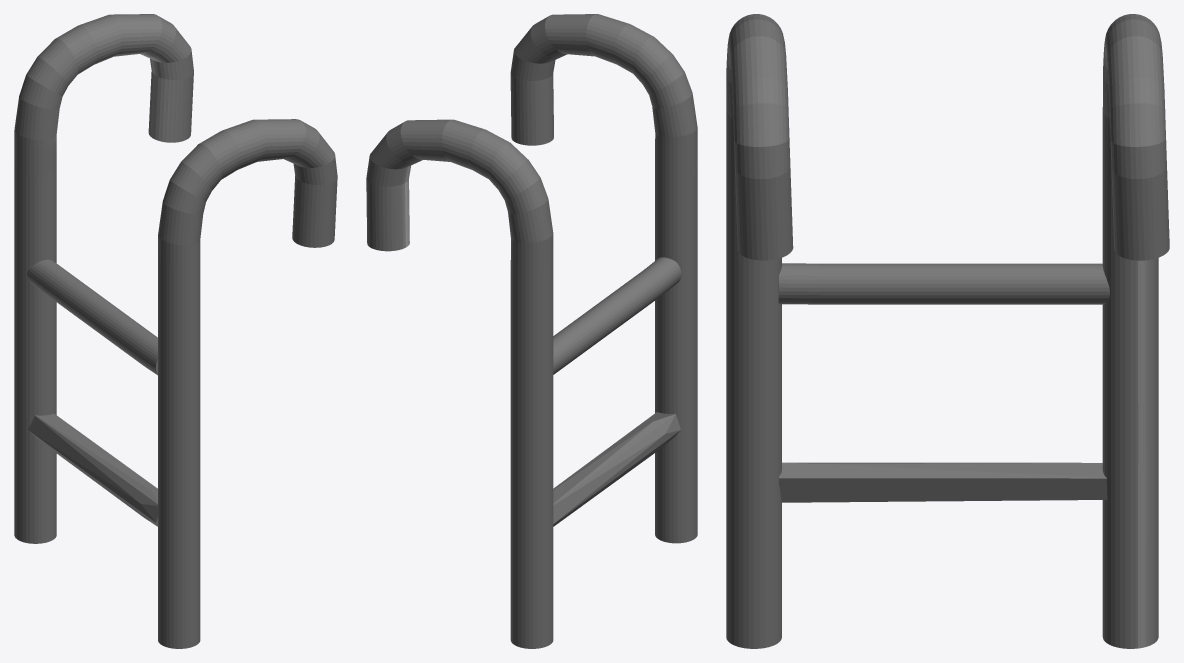
File: lojtrab.glb
3 views of the same model, side by side, from view 1: azimuth 30°, elevation 25°; view 2: azimuth 150°, elevation 25°; view 3: azimuth 270°, elevation 25° (orthographic). The views are drawn at different scales.
Parts seen in each view (by area): view 1: Cylinder.001, Cylinder.000, Cylinder, Cylinder.002; view 2: Cylinder.000, Cylinder.001, Cylinder, Cylinder.002; view 3: Cylinder.000, Cylinder.001, Cylinder, Cylinder.002.
Boxes of the visible parts, x1,y1,x2,y2 form: Cylinder.001: [158, 119, 337, 648]; Cylinder.000: [14, 14, 193, 543]; Cylinder: [27, 259, 157, 375]; Cylinder.002: [28, 413, 157, 526]; Cylinder.000: [366, 119, 553, 648]; Cylinder.001: [510, 14, 697, 543]; Cylinder: [553, 257, 681, 374]; Cylinder.002: [553, 412, 680, 526]; Cylinder.000: [1102, 14, 1169, 648]; Cylinder.001: [726, 14, 793, 648]; Cylinder: [778, 263, 1109, 304]; Cylinder.002: [779, 462, 1107, 502].
Size of the model in its own units: 0.7649 by 2.05 by 1.26.
Materials: 4 (4 with a texture image).
